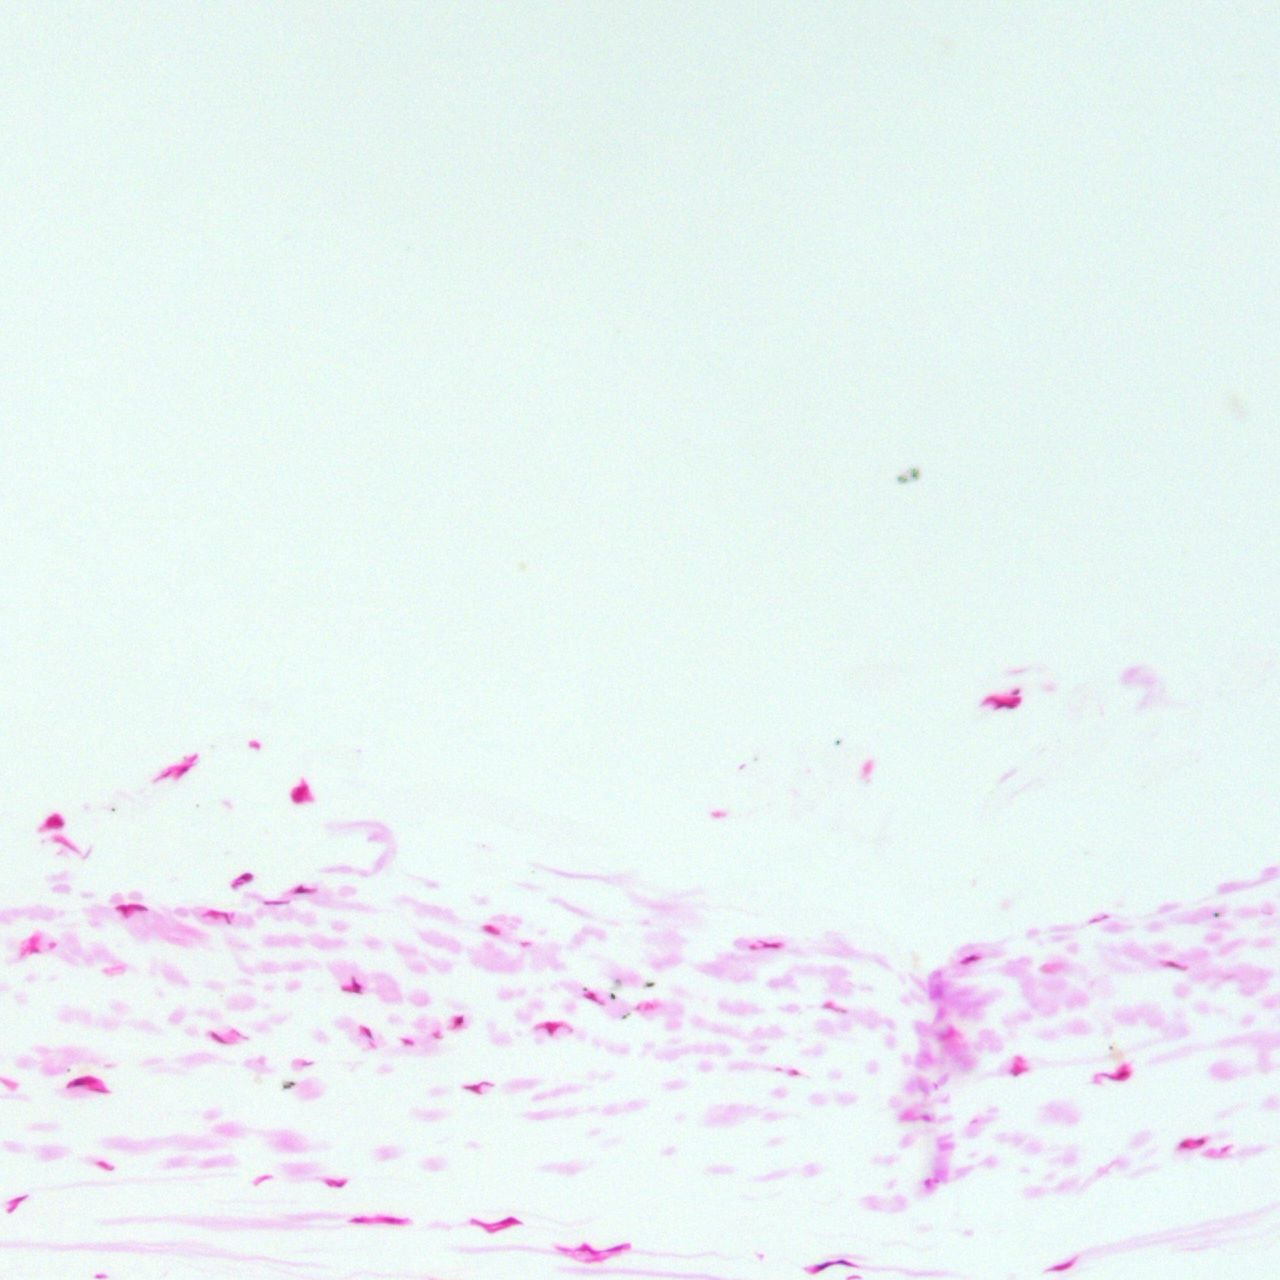dust: (282, 1080, 297, 1090), (646, 980, 658, 987), (620, 1013, 632, 1020), (608, 992, 617, 1000), (1212, 911, 1219, 918), (835, 740, 840, 745), (581, 986, 588, 990), (1108, 1046, 1114, 1050), (753, 758, 758, 763)
nucleus-FG: (806, 1255, 847, 1276), (474, 1216, 522, 1233), (565, 1242, 631, 1254), (1047, 1257, 1077, 1276), (4, 1190, 27, 1216), (981, 697, 1017, 709), (54, 835, 79, 851), (172, 762, 192, 781), (1178, 1137, 1208, 1148), (1108, 1069, 1133, 1081), (1009, 1056, 1024, 1075), (117, 903, 145, 912), (583, 989, 601, 1003), (292, 784, 306, 802), (46, 813, 63, 828), (481, 922, 498, 937), (1164, 960, 1186, 971), (1087, 913, 1109, 924), (959, 952, 979, 964), (97, 1158, 113, 1172), (64, 1078, 90, 1087), (203, 910, 229, 918), (211, 1032, 225, 1046), (157, 769, 172, 782), (382, 1216, 406, 1224), (263, 899, 290, 906), (452, 1014, 465, 1027), (545, 1022, 558, 1035), (352, 976, 361, 993), (463, 1084, 482, 1092), (760, 942, 781, 949), (348, 1216, 366, 1224), (293, 887, 316, 893), (363, 1024, 373, 1039), (91, 1088, 113, 1094), (240, 872, 252, 881), (27, 947, 41, 954), (402, 1039, 414, 1046), (333, 1180, 345, 1187), (339, 986, 350, 990)
